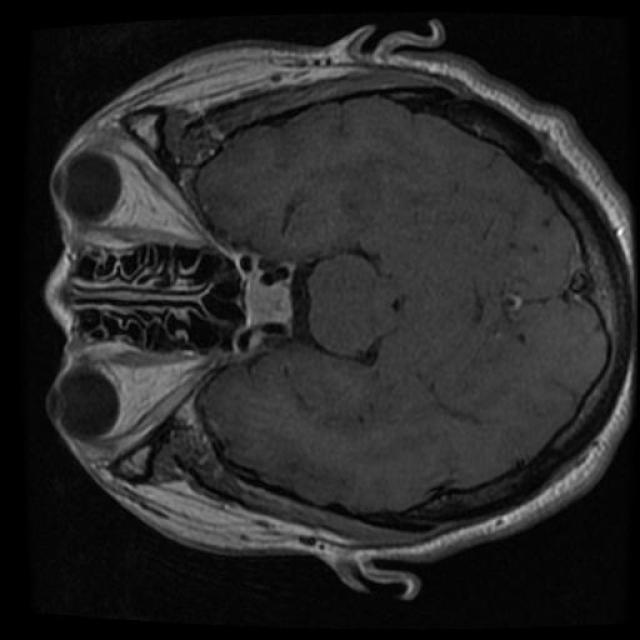Pituitary: (233, 252, 294, 351)
